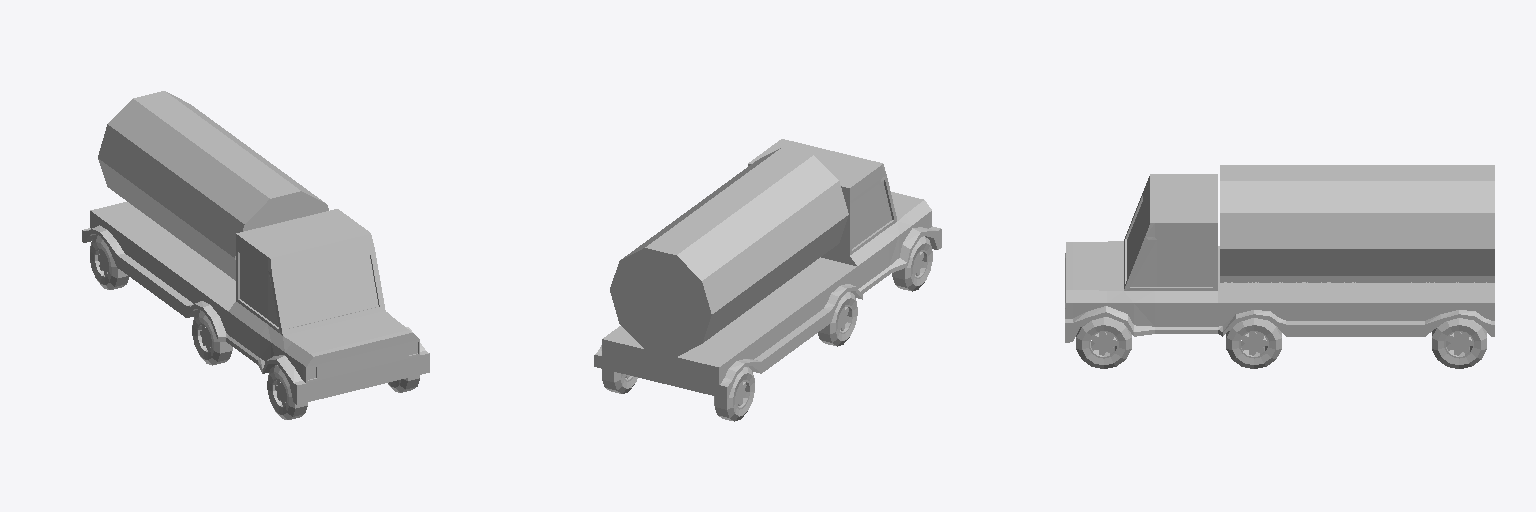
File: truck_03.obj
The picture shows the model from 3 angles: view 1: azimuth 30°, elevation 25°; view 2: azimuth 150°, elevation 25°; view 3: azimuth 270°, elevation 25°; orthographic projection.
Visible parts, largest first — view 1: truck_Cube.001; view 2: truck_Cube.001; view 3: truck_Cube.001.
Part boxes in pixels (left/top/right/bottom): truck_Cube.001: left=82, top=91, right=429, bottom=419; truck_Cube.001: left=594, top=139, right=941, bottom=421; truck_Cube.001: left=1065, top=165, right=1494, bottom=368.
Bounding box in the file's own units: 1.83 × 2.19 × 5.14.